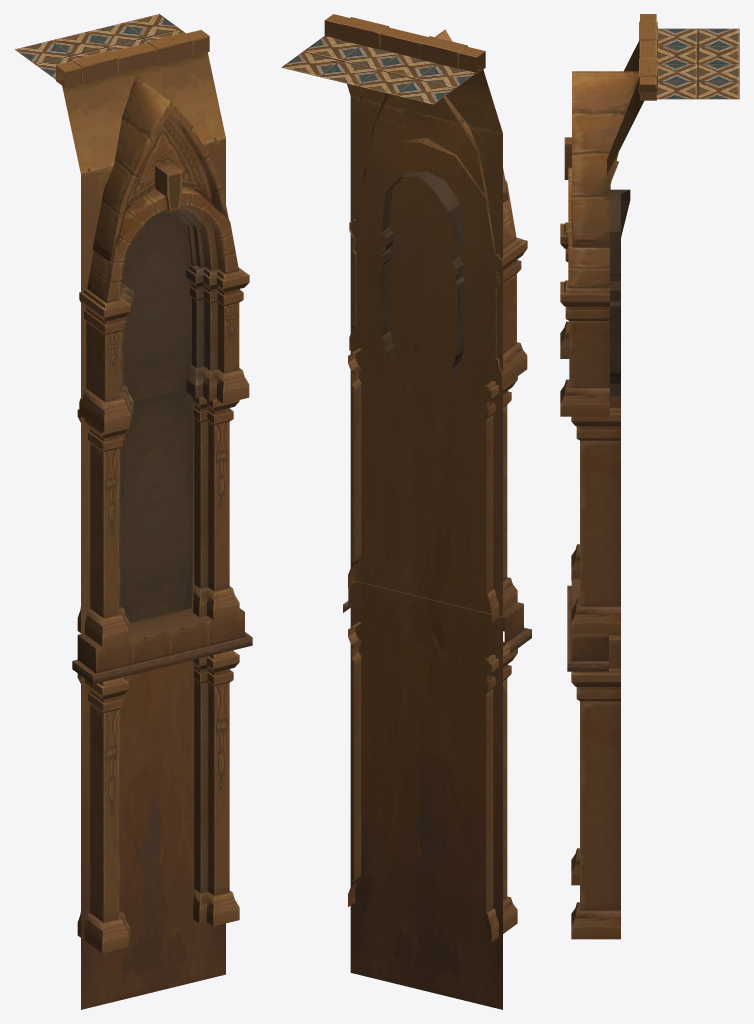
File: shakian_cliff_base24_wallunder01_07.FBX
3 views of the same model, side by side, from view 1: azimuth 30°, elevation 25°; view 2: azimuth 150°, elevation 25°; view 3: azimuth 270°, elevation 25° (orthographic). The views are drawn at different scales.
Parts seen in each view (by area): view 1: shakian_cliff_base24_wallunder01_07; view 2: shakian_cliff_base24_wallunder01_07; view 3: shakian_cliff_base24_wallunder01_07.
Boxes of the visible parts, left/top/right/bottom form: shakian_cliff_base24_wallunder01_07: left=15, top=14, right=252, bottom=1009; shakian_cliff_base24_wallunder01_07: left=281, top=14, right=531, bottom=1009; shakian_cliff_base24_wallunder01_07: left=560, top=14, right=739, bottom=939.
Bounding box in the file's own units: 4.39 × 24.41 × 4.29.
